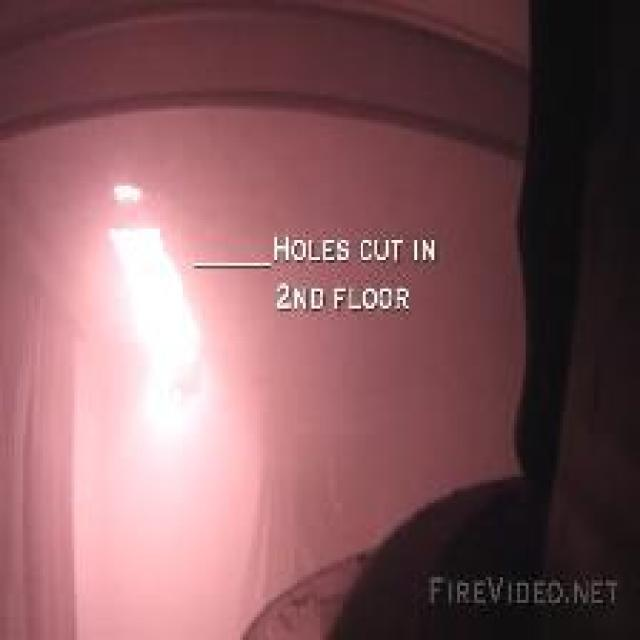fire: (88, 179, 218, 426)
